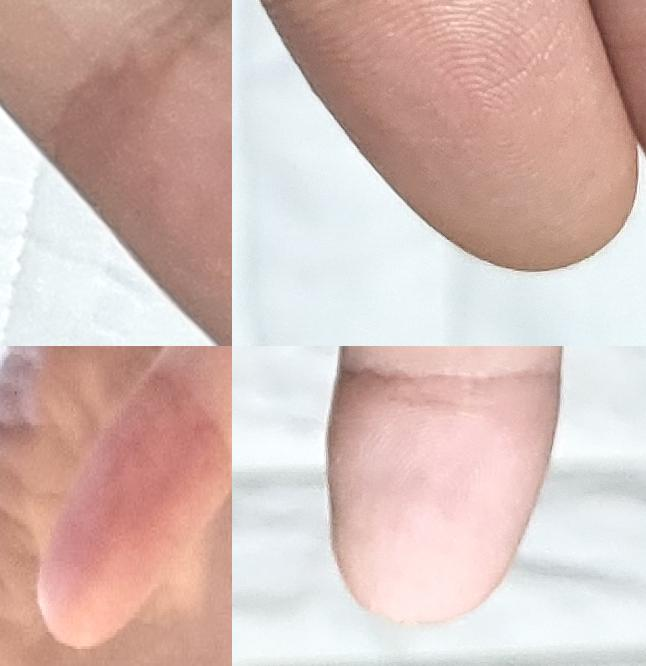Fingerprints: (260, 0, 640, 274), (45, 6, 232, 346), (330, 370, 560, 624), (38, 371, 232, 648)
